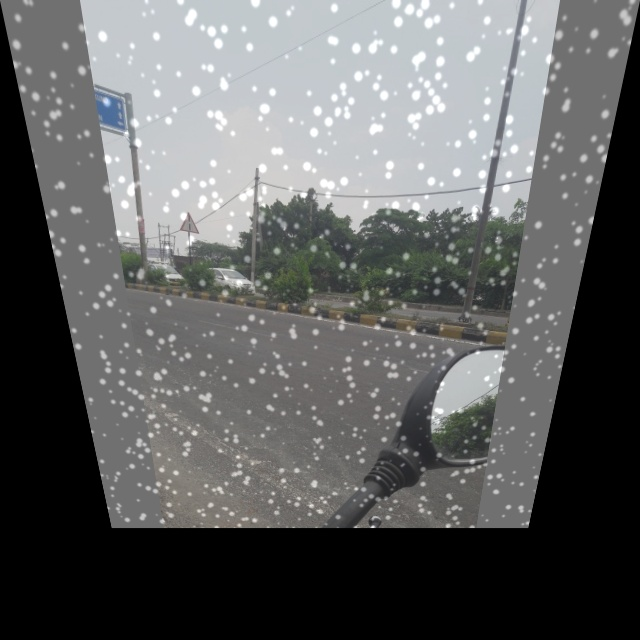Gap_in_Median: (176, 207, 201, 236)
